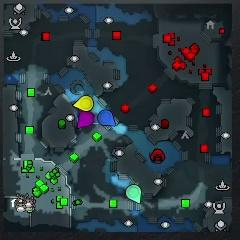p1: (98, 110, 116, 126)
p2: (127, 185, 141, 204)
p3: (77, 111, 94, 129)
p4: (74, 95, 93, 111)
